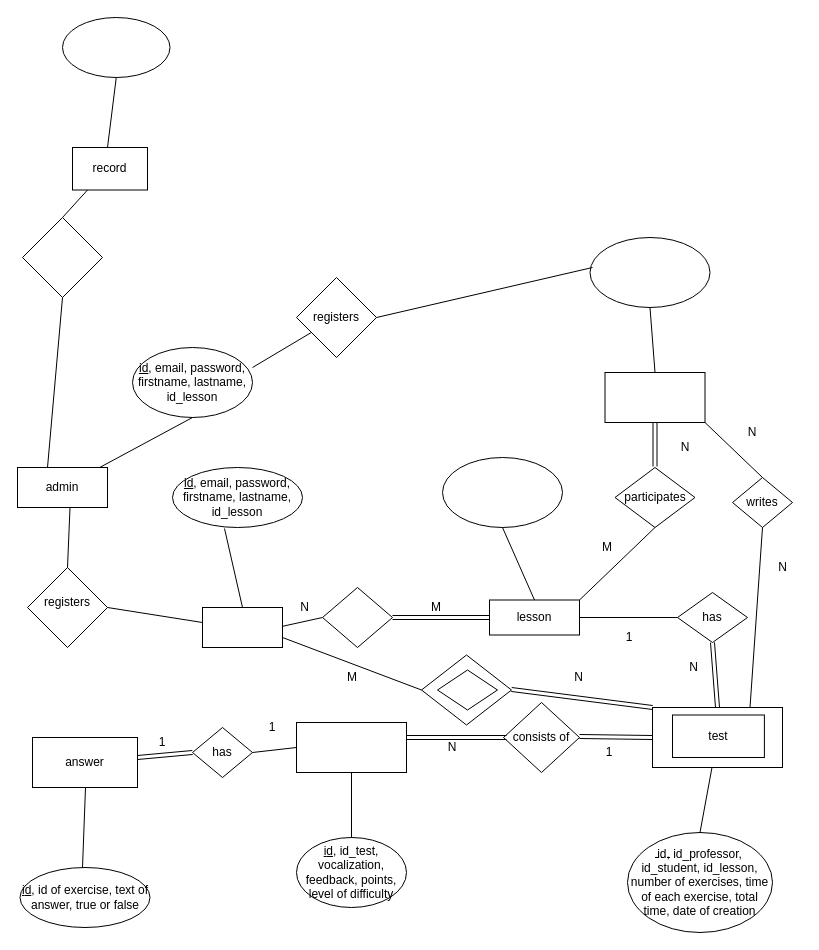
The diagram is 819 pixels wide and 950 high, and some of its shapes have lost their labels. Here are the shapes that lost their labels. From the top down, the centre of each, then its label:
At point (116, 47): "id , id of student, date, score, given answers".
At point (62, 257): "saves".
At point (649, 272): "id , id_test, email, password, firstname, lastname, id_lesson".
At point (654, 397): "student".
At point (502, 492): "id , id_professor, id_student, name, description".
At point (242, 627): "professor".
At point (357, 617): "teaches".
At point (467, 689): "makes".
At point (351, 747): "exercise".
